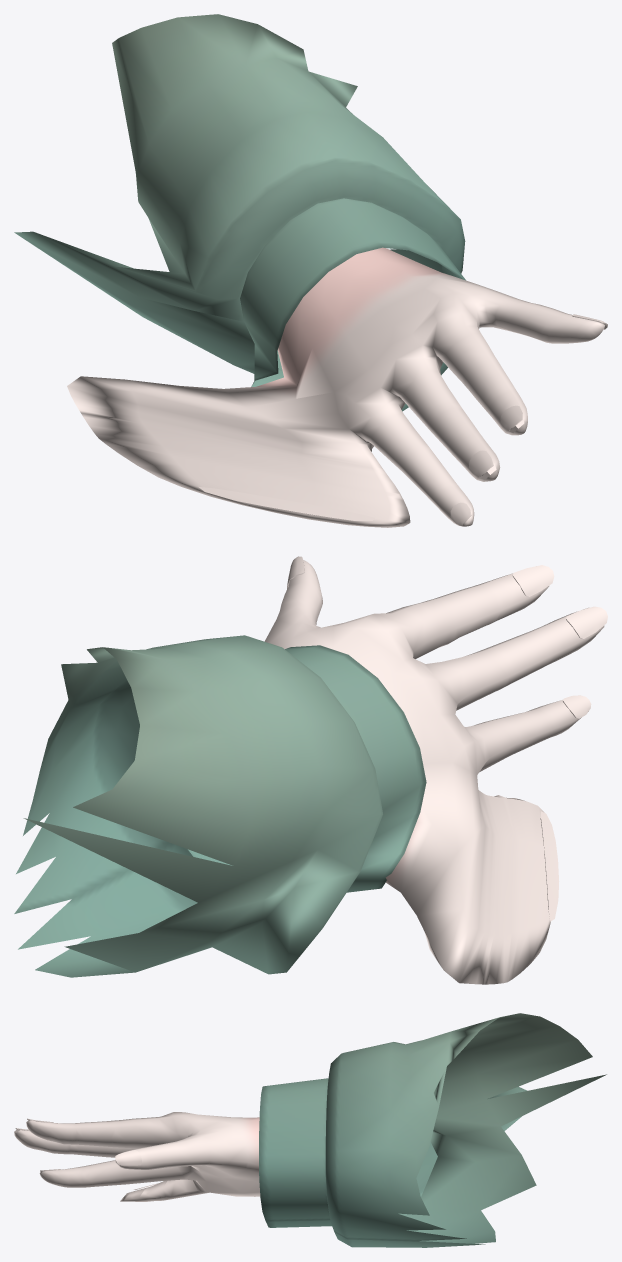
The model's file is NijikaPick.obj.
3 renders of one model, top to bottom at view 1: azimuth 30°, elevation 25°; view 2: azimuth 150°, elevation 25°; view 3: azimuth 270°, elevation 25°, orthographic. The views are drawn at different scales.
Bounding box in the file's own units: 0.2568 × 0.2127 × 0.5194.
2 materials, 2 textured.
